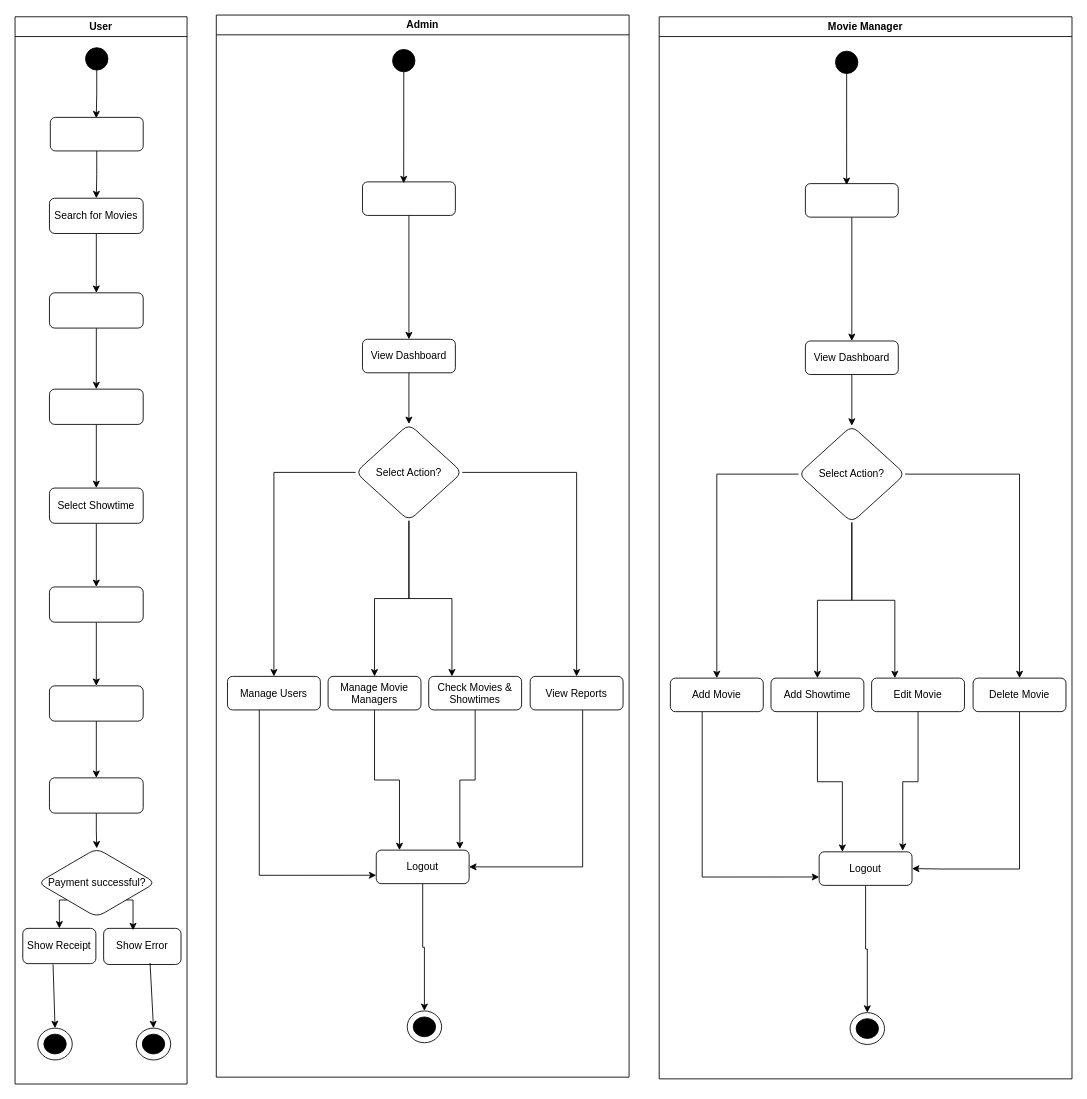
This 1087x1099 diagram has some shape labels left out. The centre of each missing label's shape, as x and y in pixels:
"Confirm Reservation" goes at pixel 96 604.
"Login / Register" goes at pixel 96 134.
"Login as Admin" goes at pixel 408 198.
"Login as Movie Manager" goes at pixel 851 200.
"Proceed to Payment" goes at pixel 96 703.
"Process Payment" goes at pixel 96 795.
"Select Movie" goes at pixel 96 310.
"View Showtimes" goes at pixel 96 406.
